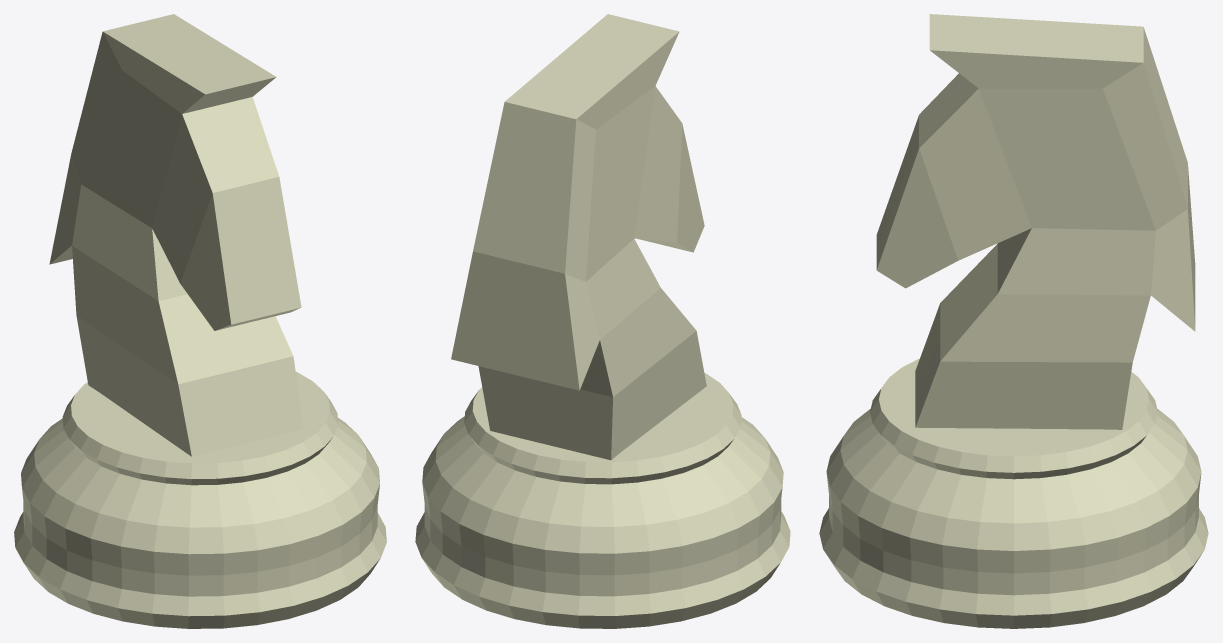
File: knight.gltf
3 renders of one model, left to right at view 1: azimuth 30°, elevation 25°; view 2: azimuth 150°, elevation 25°; view 3: azimuth 270°, elevation 25°, orthographic. The views are drawn at different scales.
Parts seen in each view (by area): view 1: Circle; view 2: Circle; view 3: Circle.
Boxes of the visible parts, x1,y1,x2,y2 form: Circle: (14,14,386,628); Circle: (415,14,790,628); Circle: (819,14,1208,628).
Bounding box in the file's own units: 1.76 × 2.59 × 1.76.
